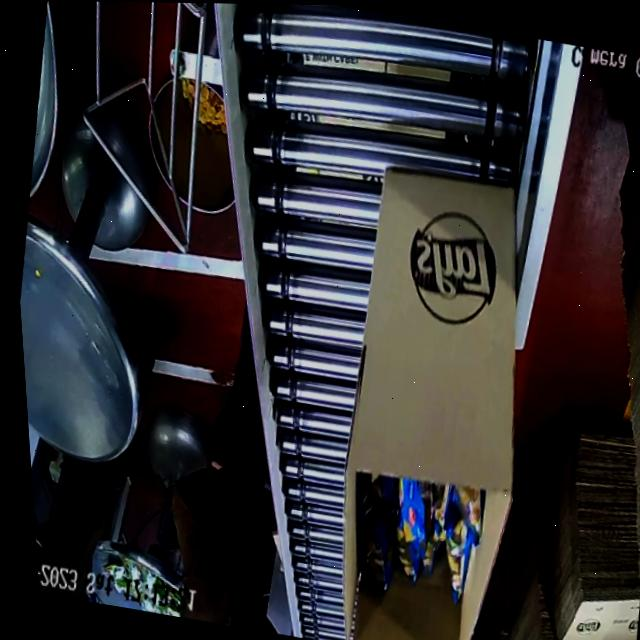PAPRIKA: (343, 475, 500, 606)
